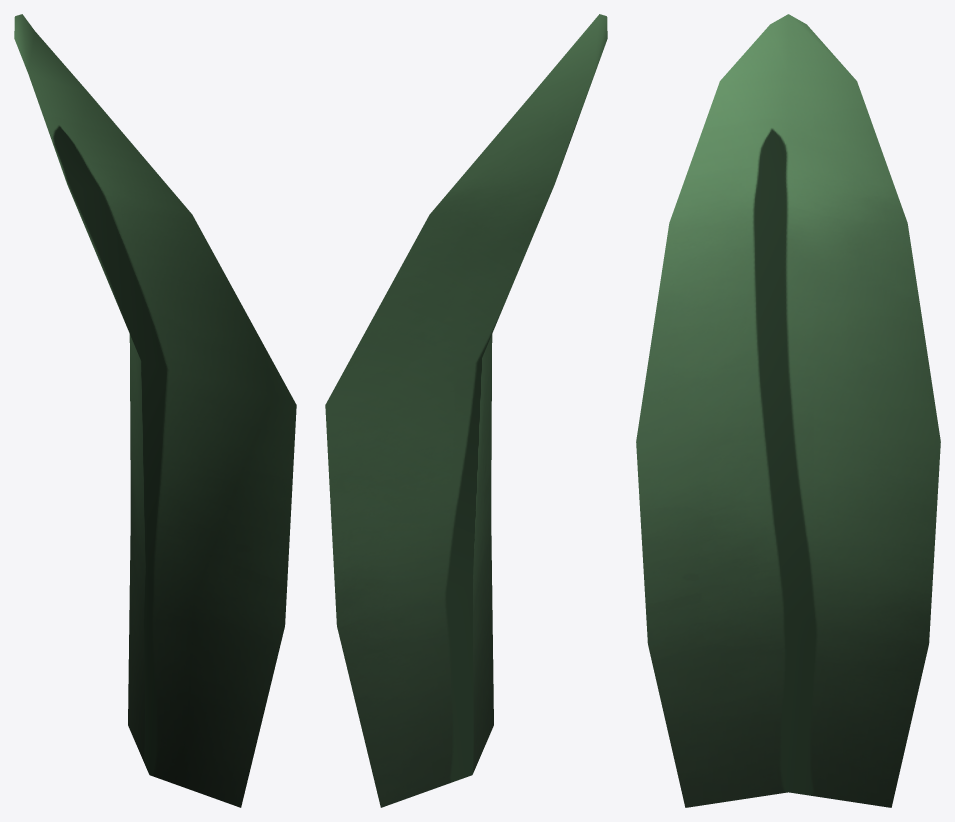
File: cesped_1_v2.fbx
3 renders of one model, left to right at view 1: azimuth 30°, elevation 25°; view 2: azimuth 150°, elevation 25°; view 3: azimuth 270°, elevation 25°, orthographic. The views are drawn at different scales.
Parts seen in each view (by area): view 1: cesped_1_v2; view 2: cesped_1_v2; view 3: cesped_1_v2.
Boxes of the visible parts, x1,y1,x2,y2 form: cesped_1_v2: (14, 14, 296, 807); cesped_1_v2: (325, 14, 607, 807); cesped_1_v2: (636, 14, 940, 807).
Size of the model in its own units: 2.96 by 1.95 by 7.73.
